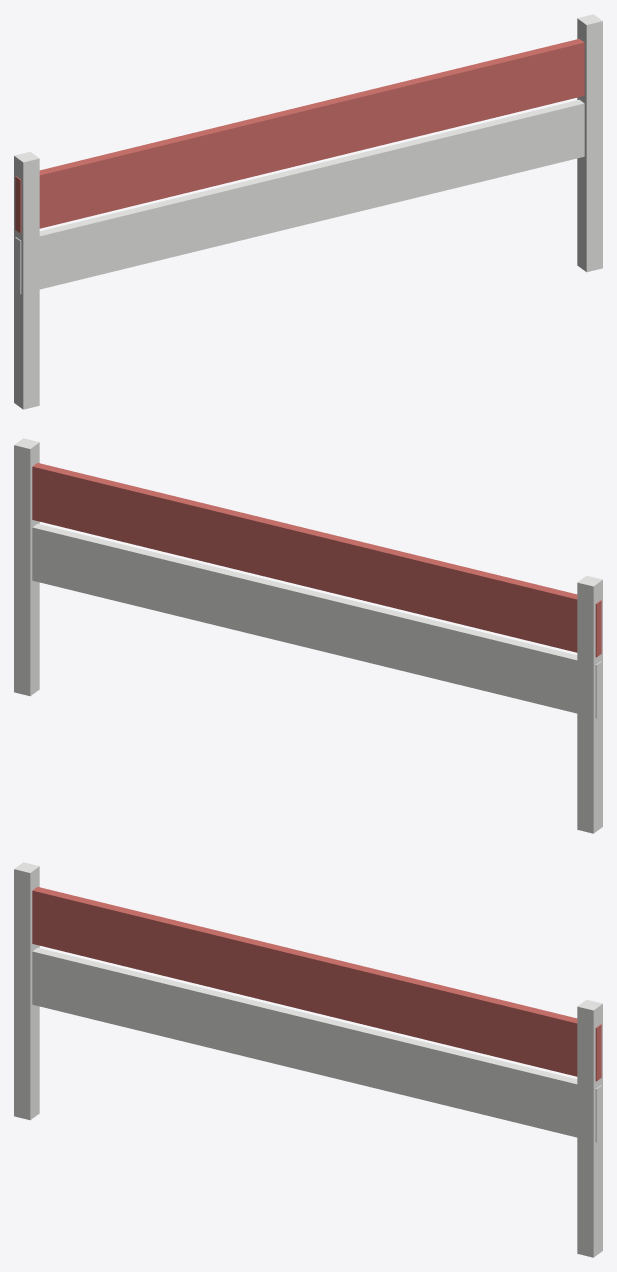
Rendered from jump-planks.glb.
The picture shows the model from 3 angles, top to bottom: view 1: azimuth 30°, elevation 25°; view 2: azimuth 150°, elevation 25°; view 3: azimuth 330°, elevation 25°; orthographic projection.
Parts seen in each view (by area): view 1: jump-planks; view 2: jump-planks; view 3: jump-planks.
Part boxes in pixels (x1=…): jump-planks: x1=14, y1=14, x2=602, y2=409; jump-planks: x1=14, y1=438, x2=602, y2=833; jump-planks: x1=14, y1=862, x2=602, y2=1257.
Bounding box in the file's own units: 3.2 × 1.3 × 0.0898.
